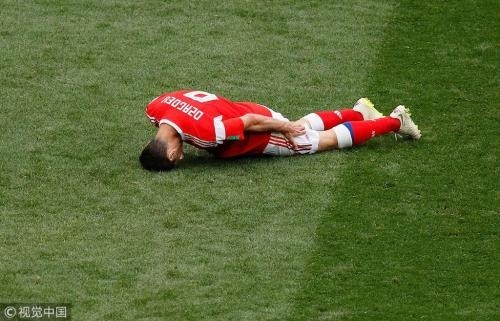falling: (138, 75, 425, 171)
